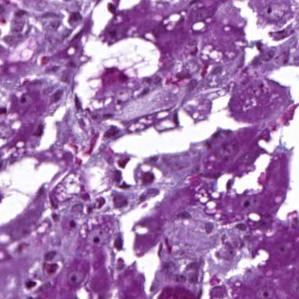ballooning: (74, 36, 161, 113)
